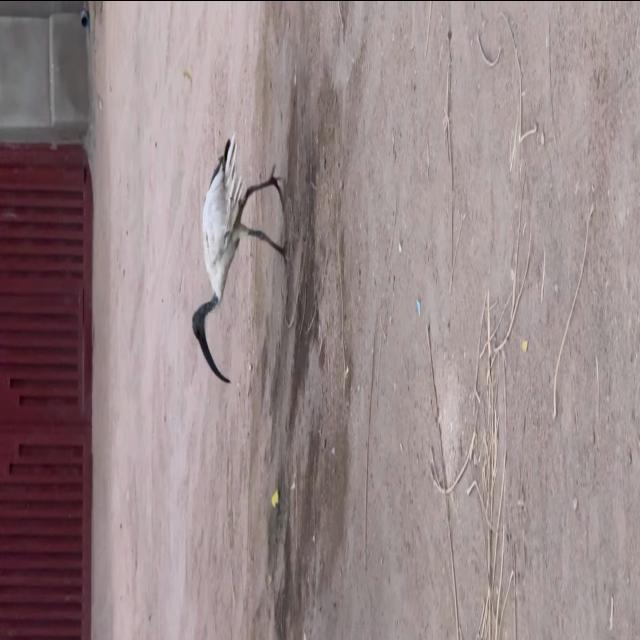Birds-Ibis: (189, 127, 293, 387)
